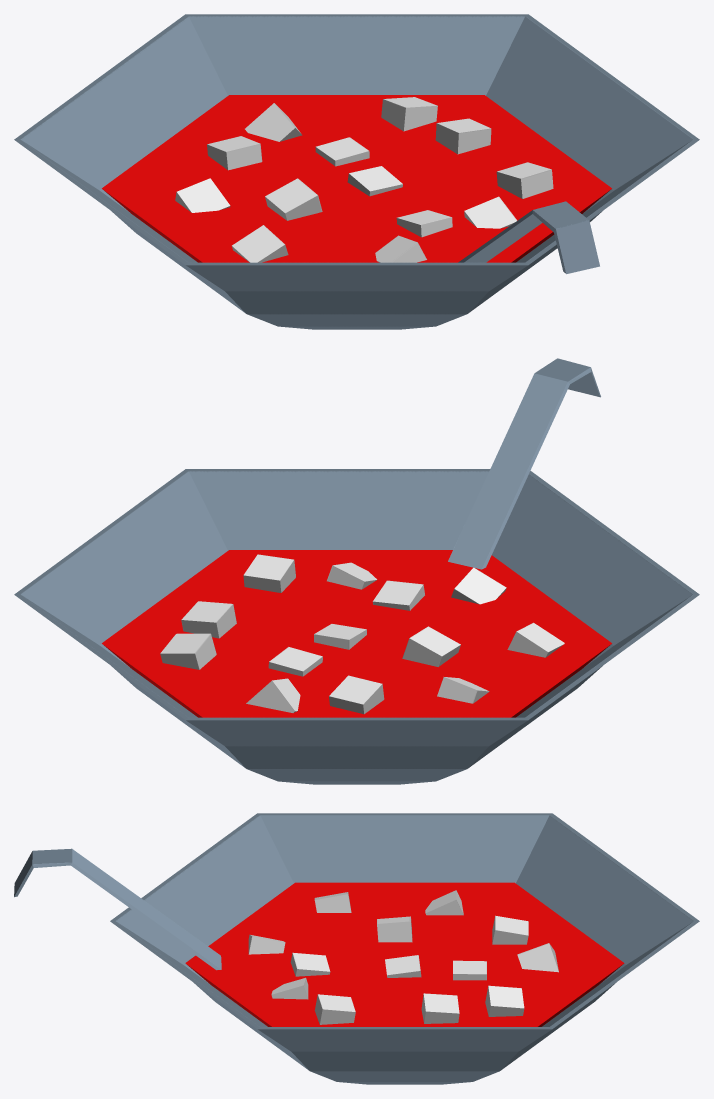
The model's file is punchbowl.obj.
3 renders of one model, top to bottom at view 1: azimuth 30°, elevation 25°; view 2: azimuth 150°, elevation 25°; view 3: azimuth 270°, elevation 25°, orthographic. The views are drawn at different scales.
Visible parts, largest first — view 1: Punch_Sphere.002; view 2: Punch_Sphere.002; view 3: Punch_Sphere.002.
Boxes of the visible parts, x1,y1,x2,y2 form: Punch_Sphere.002: [14, 14, 699, 329]; Punch_Sphere.002: [14, 358, 699, 784]; Punch_Sphere.002: [14, 813, 699, 1084].
Size of the model in its own units: 2.1 by 0.9625 by 2.82.
1 material, 1 textured.
